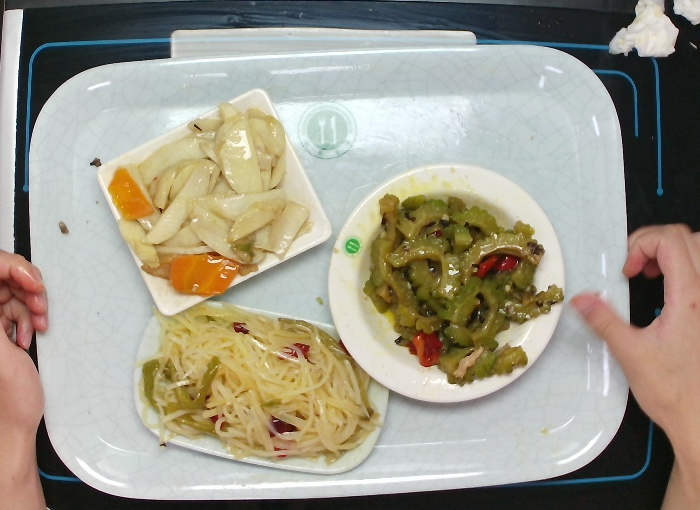WCQzf-Bai_Se_Si_Fang_Die: (94, 84, 334, 318)
WCQzf-Kuan_Bian_Yuan_Die: (326, 161, 568, 405)
WCQzf-Tuo_Yuan_Pan: (132, 300, 390, 476)
